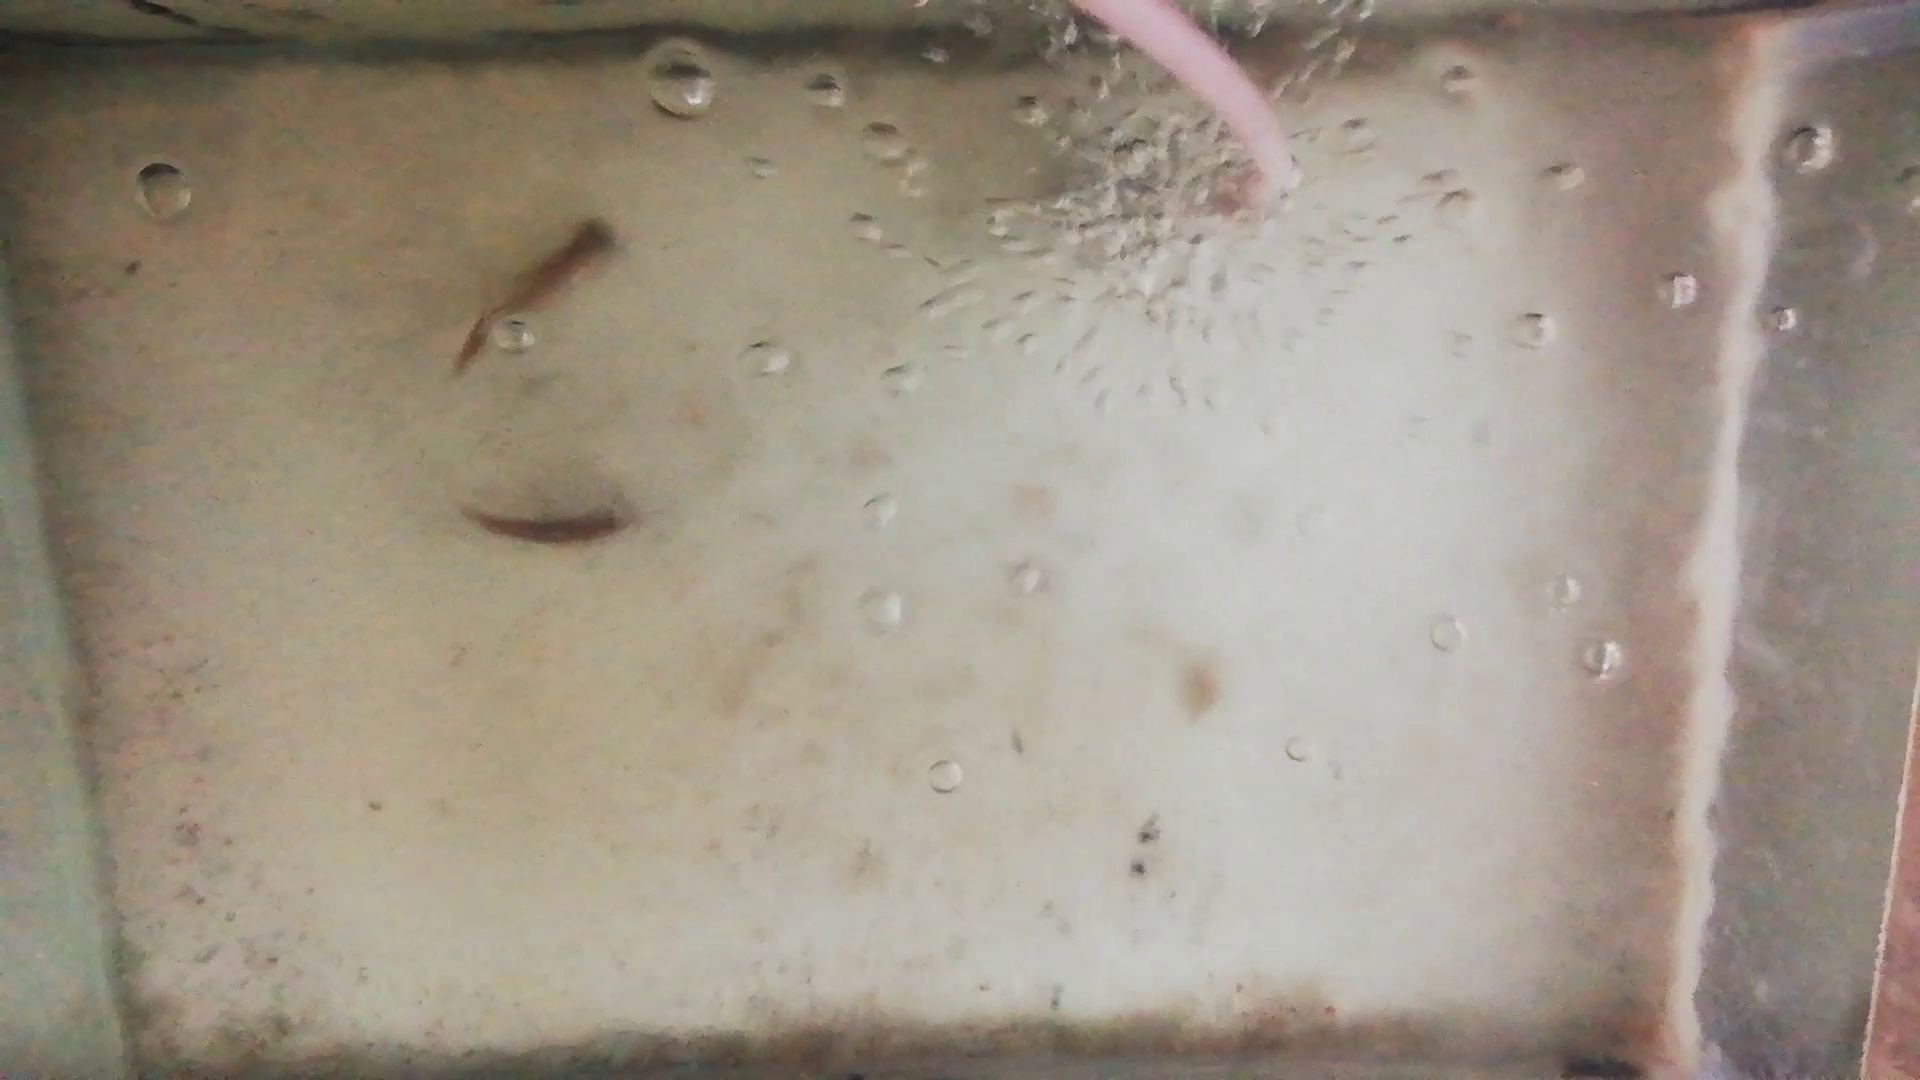fish: (451, 218, 617, 369), (454, 500, 640, 551)
